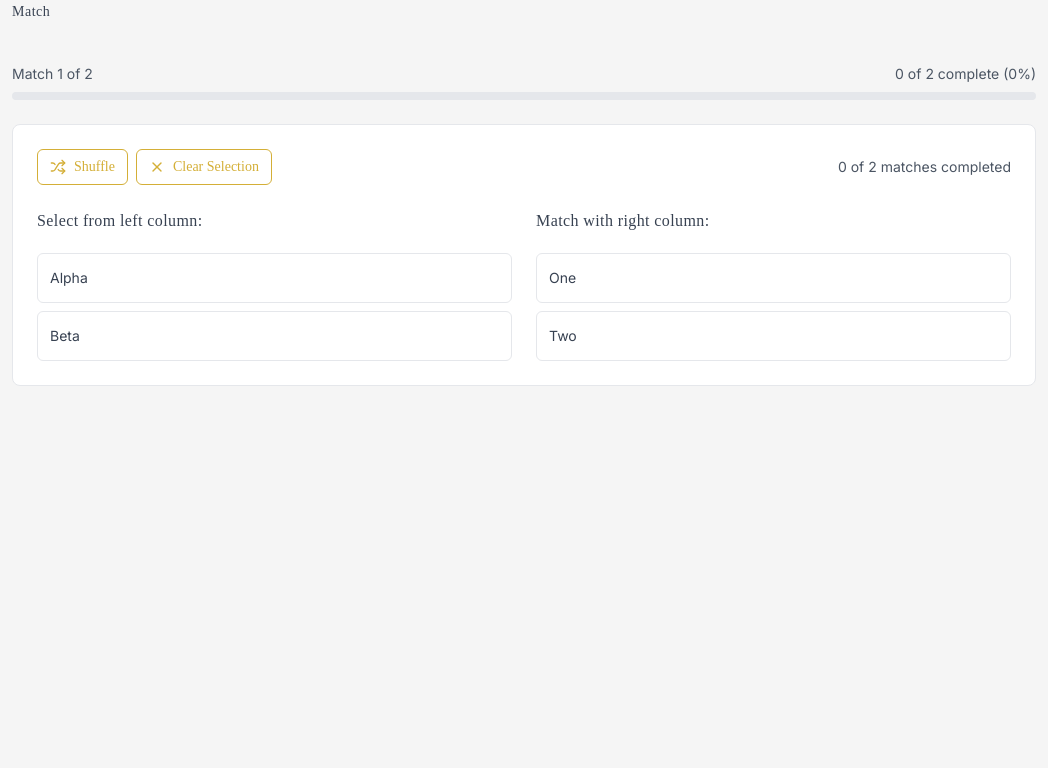
Test: matching: a miss that shows a hint or the answer waits for Got it › holds a shown hint
The image size is (1048, 768).
What coordinates should you click on to do the following:
click the button "Alpha"
I would click on:
 (69, 278)
Its box is 37,253 -> 512,303.
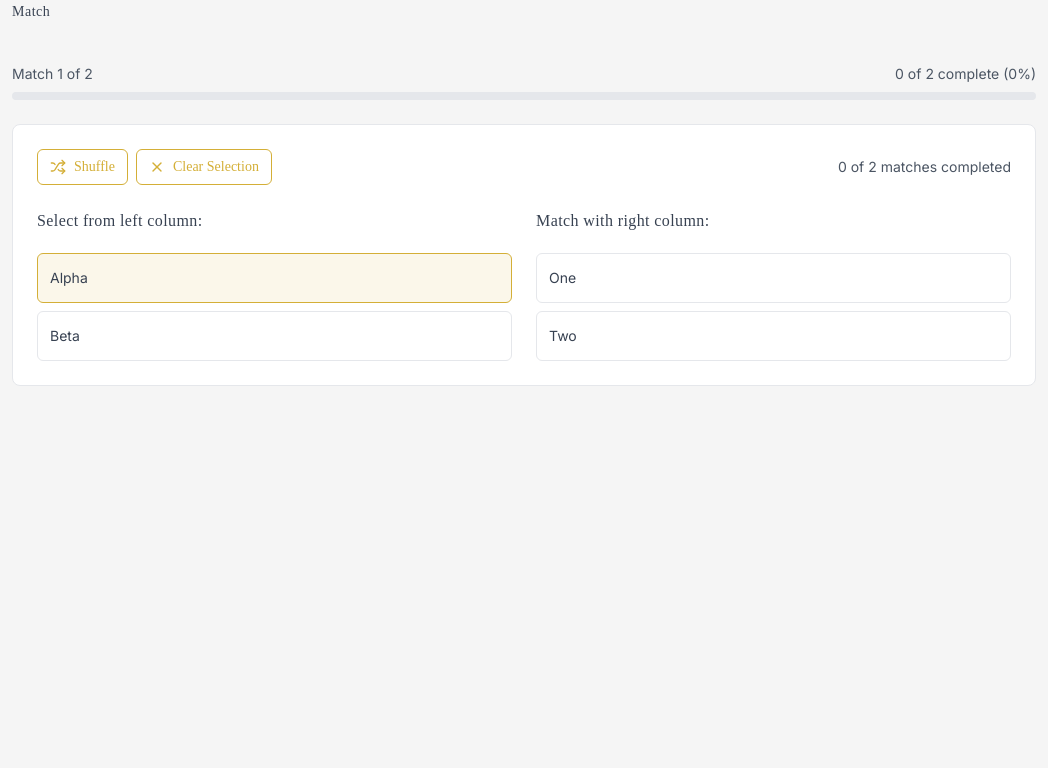
What coordinates should you click on to do the following:
click the button "Two"
I would click on:
 (563, 336)
Its box is 536,311 -> 1011,361.
Wait 5000 ms
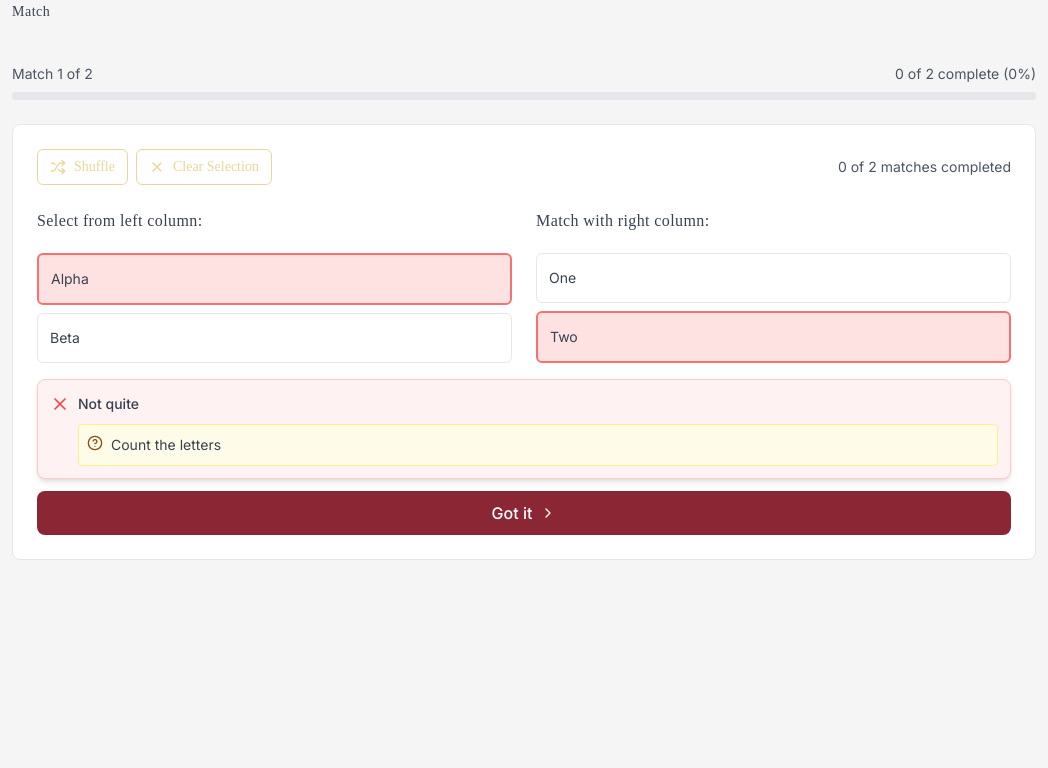
Result: the text "Count the letters" is shown at 111,436 -> 221,453
Result: the button "Got it" is shown at 37,491 -> 1011,535
